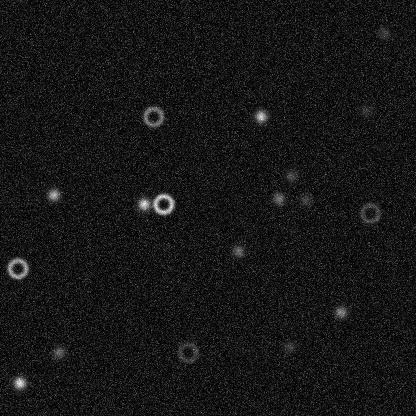Ring: (175, 340, 199, 364), (141, 104, 165, 128), (151, 191, 175, 215), (358, 201, 382, 225), (5, 256, 29, 280)
Spot: (283, 167, 299, 183), (270, 190, 286, 206), (280, 338, 296, 354), (375, 25, 391, 41), (297, 191, 313, 207), (332, 303, 348, 319), (230, 243, 246, 259), (252, 108, 268, 124), (45, 186, 61, 202), (51, 344, 67, 360), (135, 195, 151, 211), (11, 374, 27, 390), (357, 102, 373, 118)
